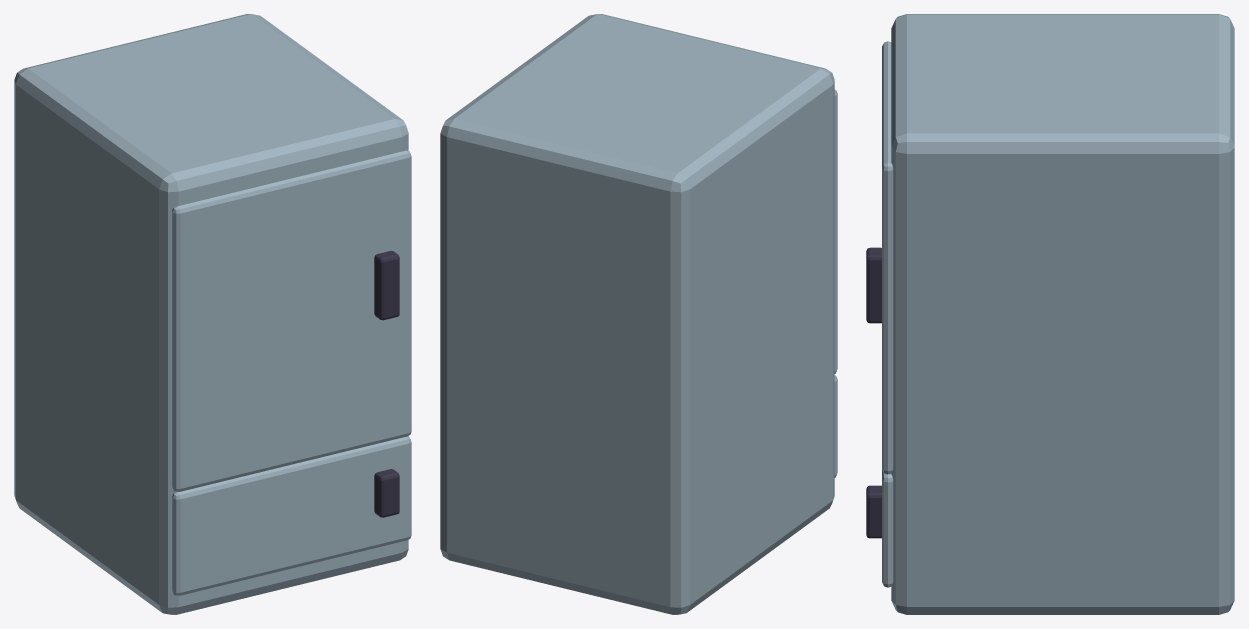
File: mini_fridge.glb
3 renders of one model, left to right at view 1: azimuth 30°, elevation 25°; view 2: azimuth 150°, elevation 25°; view 3: azimuth 270°, elevation 25°, orthographic. The views are drawn at different scales.
Visible parts, largest first — view 1: mini_fridge; view 2: mini_fridge; view 3: mini_fridge.
Boxes of the visible parts, x1=… form: mini_fridge: x1=14, y1=14, x2=411, y2=614; mini_fridge: x1=440, y1=14, x2=837, y2=614; mini_fridge: x1=866, y1=14, x2=1234, y2=614.
Size of the model in its own units: 0.5 by 0.85 by 0.59.
